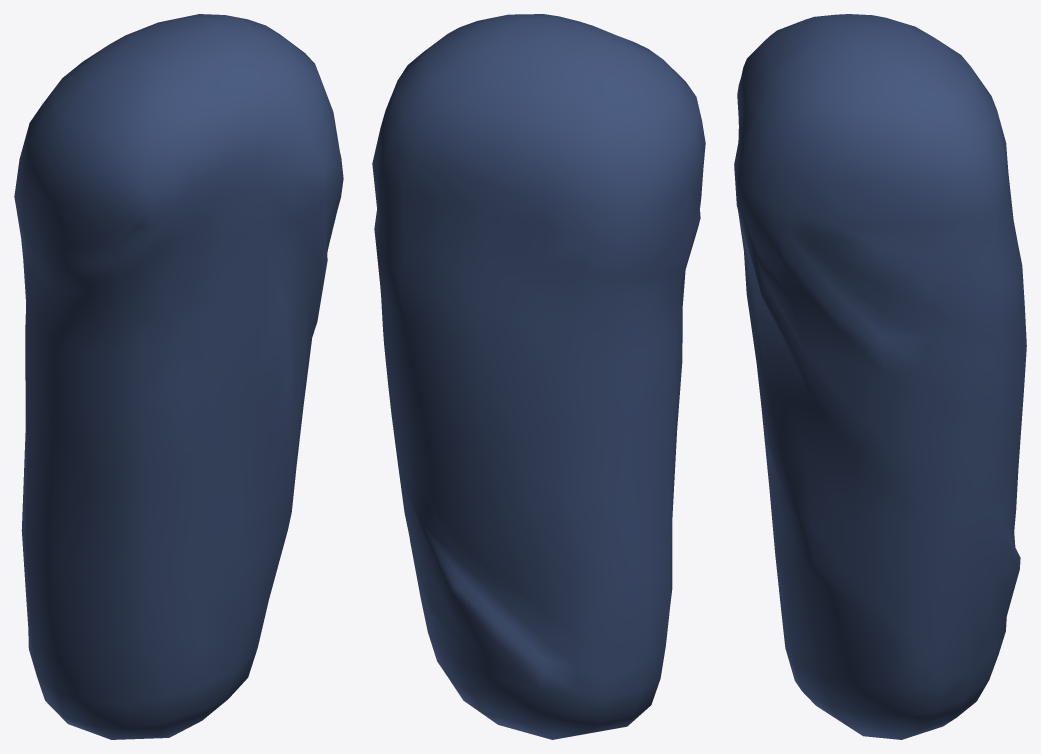
The model's file is LLegLink.dae.
The picture shows the model from 3 angles, left to right: view 1: azimuth 30°, elevation 25°; view 2: azimuth 150°, elevation 25°; view 3: azimuth 270°, elevation 25°; orthographic projection. The views are drawn at different scales.
Visible parts, largest first — view 1: ShapeIndexedFaceSet; view 2: ShapeIndexedFaceSet; view 3: ShapeIndexedFaceSet.
Part boxes in pixels (bbox=[...]): ShapeIndexedFaceSet: bbox=[14, 14, 343, 739]; ShapeIndexedFaceSet: bbox=[372, 14, 705, 739]; ShapeIndexedFaceSet: bbox=[734, 14, 1026, 739].
Bounding box in the file's own units: 0.1954 × 0.1711 × 0.4559.
